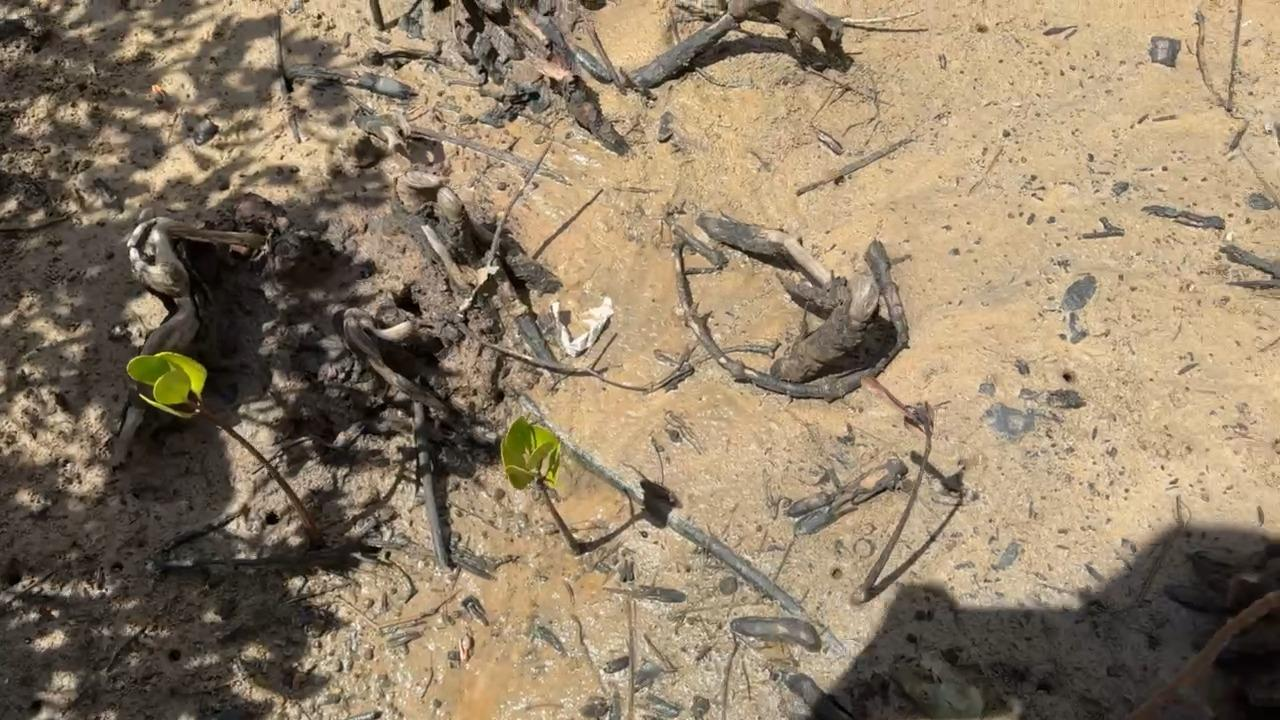Tree: (127, 351, 322, 547), (500, 414, 580, 555)
